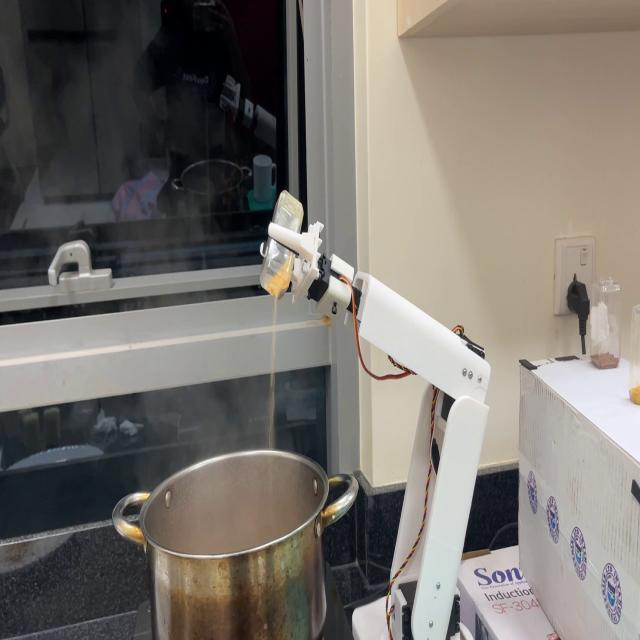cooking_pot: (111, 446, 358, 640)
curry_powder: (266, 250, 295, 432)
